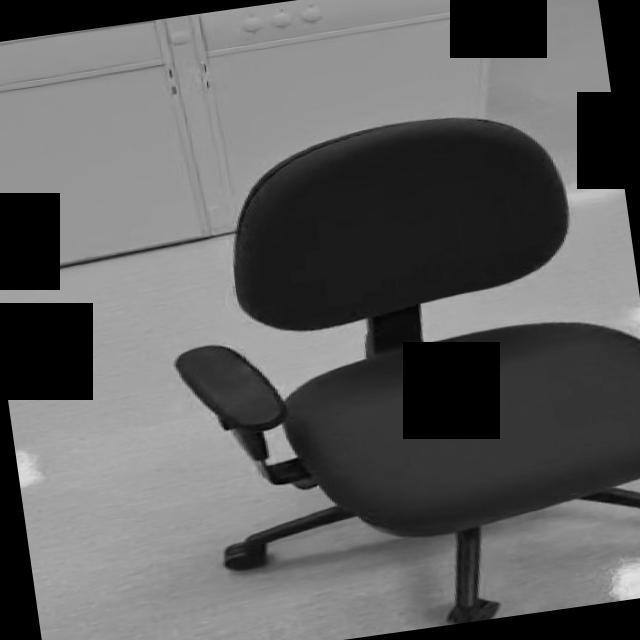chair: (146, 92, 640, 640)
